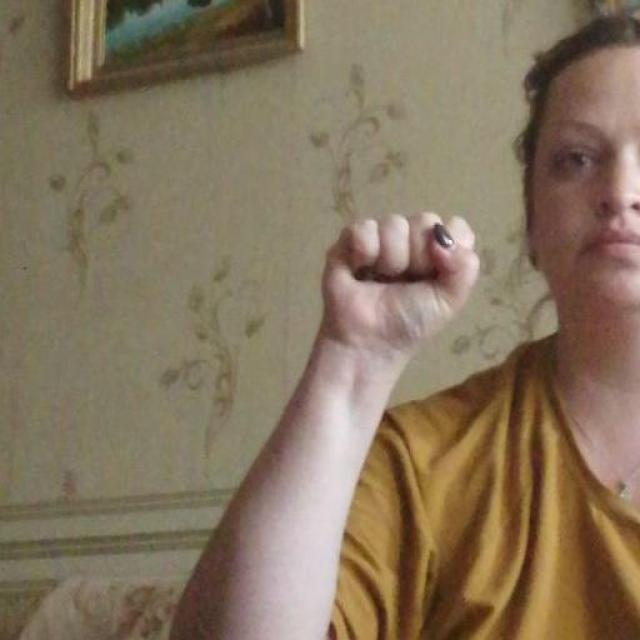hand: (318, 208, 480, 358)
